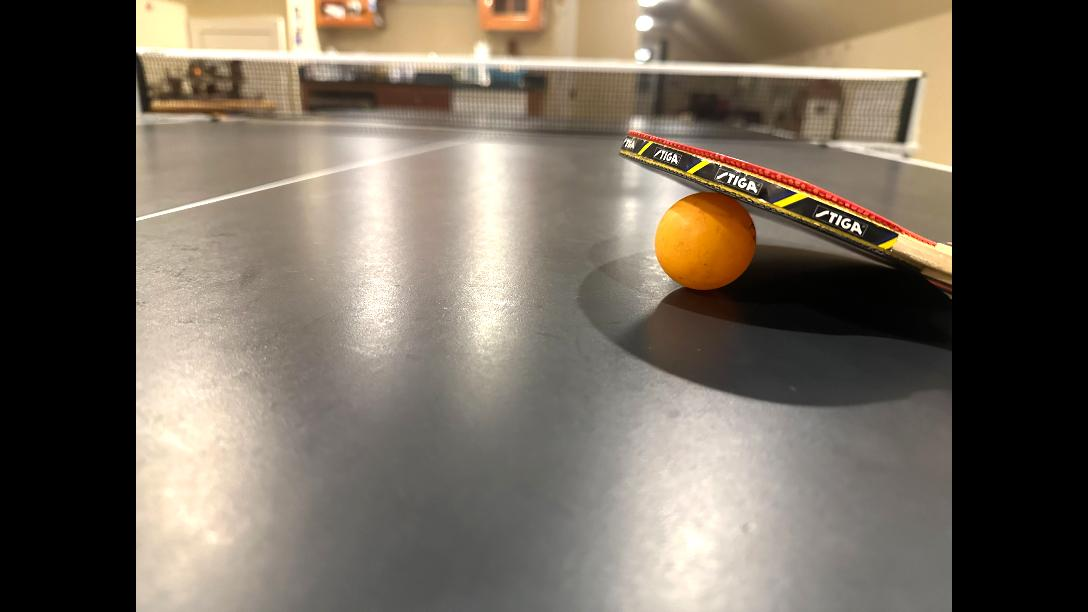Table-Tennis-Ball: (658, 192, 756, 286)
